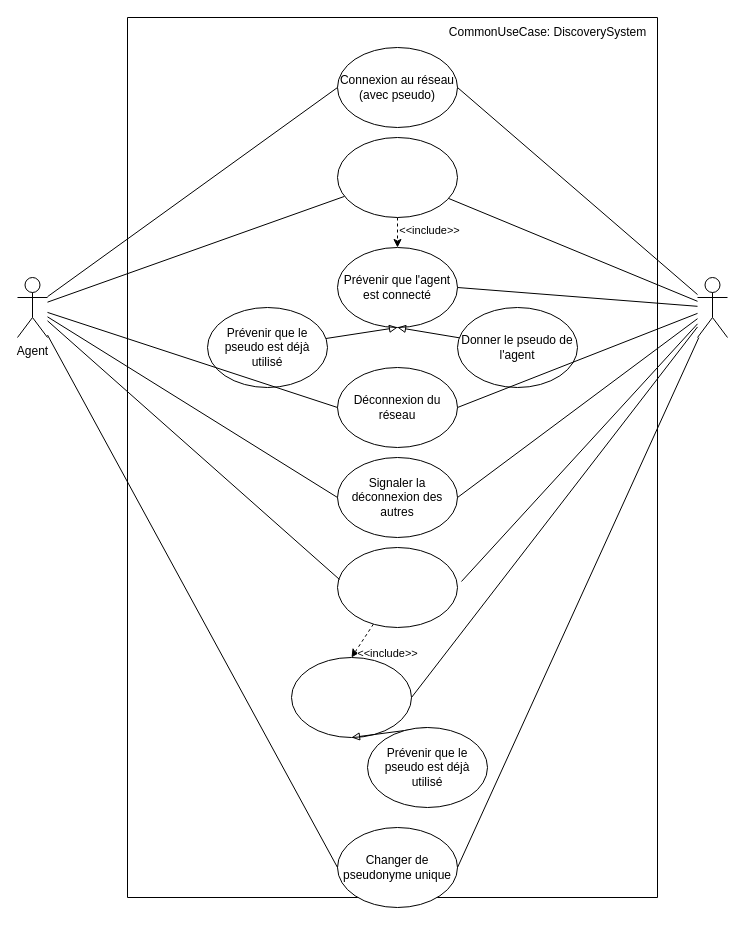
This 750x925 diagram has some shape labels left out. Each missing label, with the centre of its shape:
Réseau: point (712, 307)
Signaler la connexion des autres agents: point (397, 177)
Signaler un changement de pseudonyme: point (397, 587)
Vérifier le pseudonyme entrant: point (351, 697)
